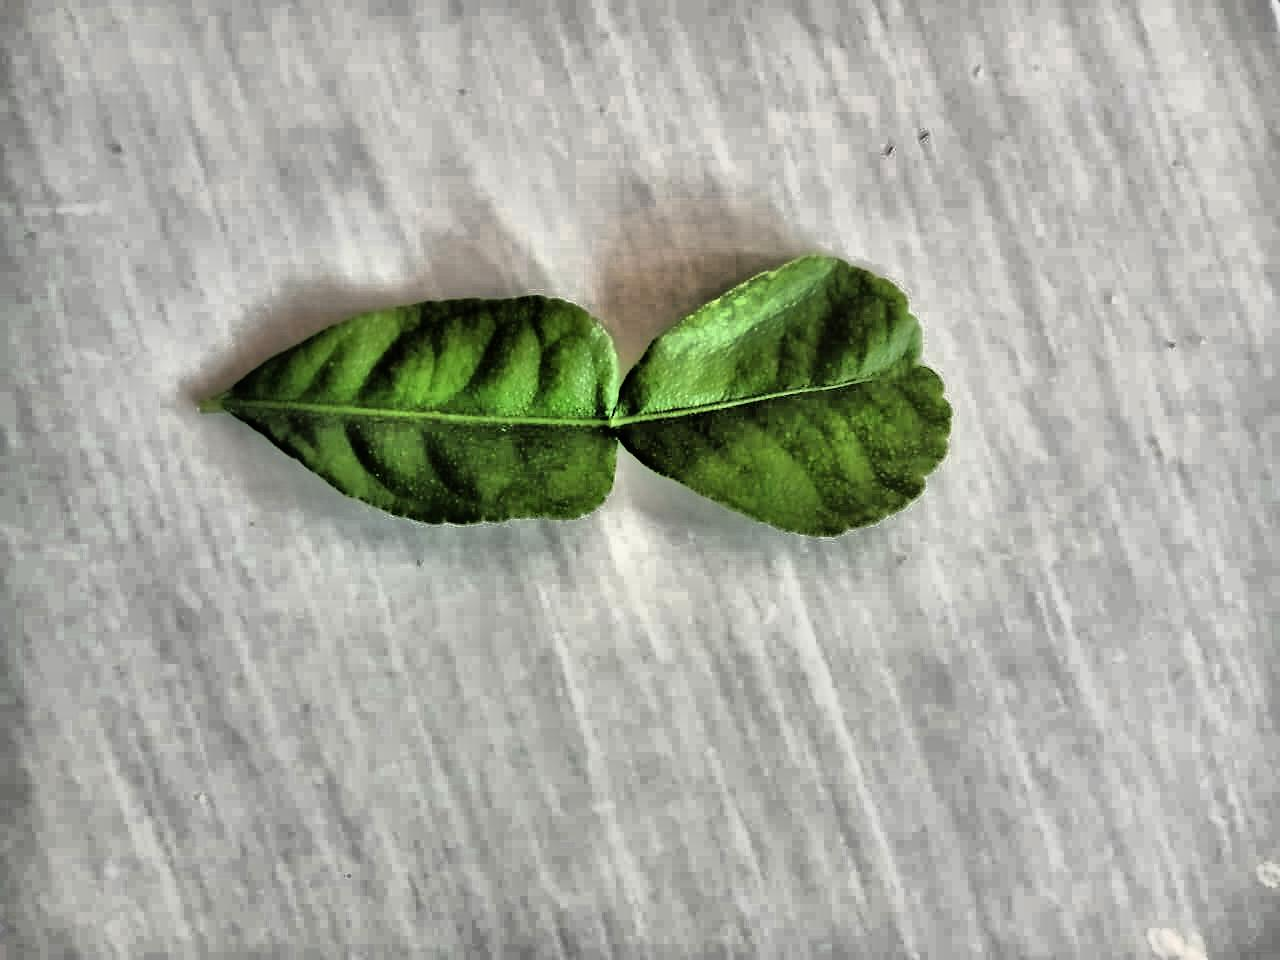daun jeruk: (202, 256, 950, 535)
